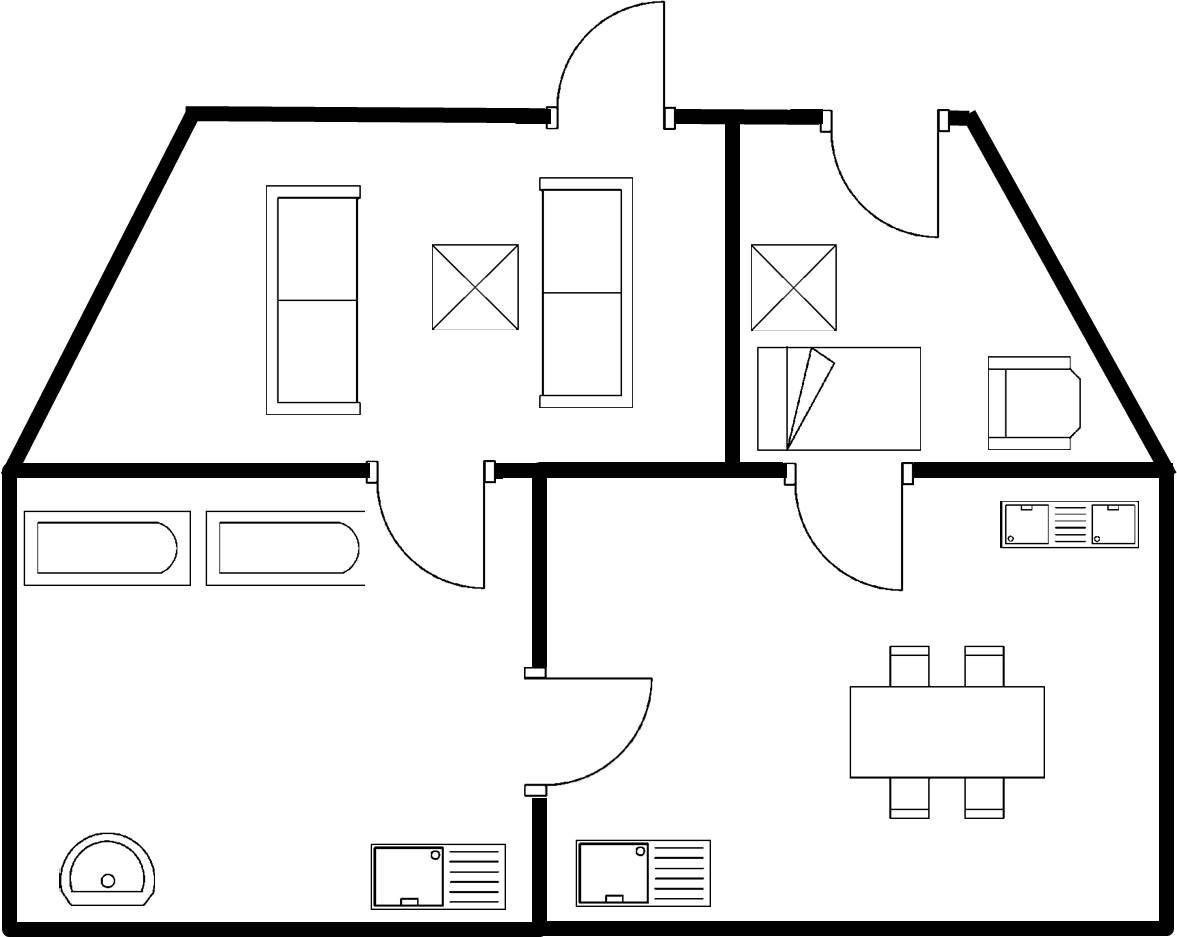armchair: (975, 349, 1091, 455)
bed: (751, 343, 932, 458)
coffee_table: (423, 235, 525, 343), (747, 239, 848, 337)
dining_table: (839, 637, 1055, 828)
large_sofa: (254, 177, 367, 429), (530, 169, 641, 418)
sink: (357, 834, 514, 918), (569, 831, 720, 912)
small_sink: (50, 822, 162, 915)
tub: (200, 504, 378, 597), (19, 507, 197, 595)
twin_sink: (991, 493, 1144, 560)
